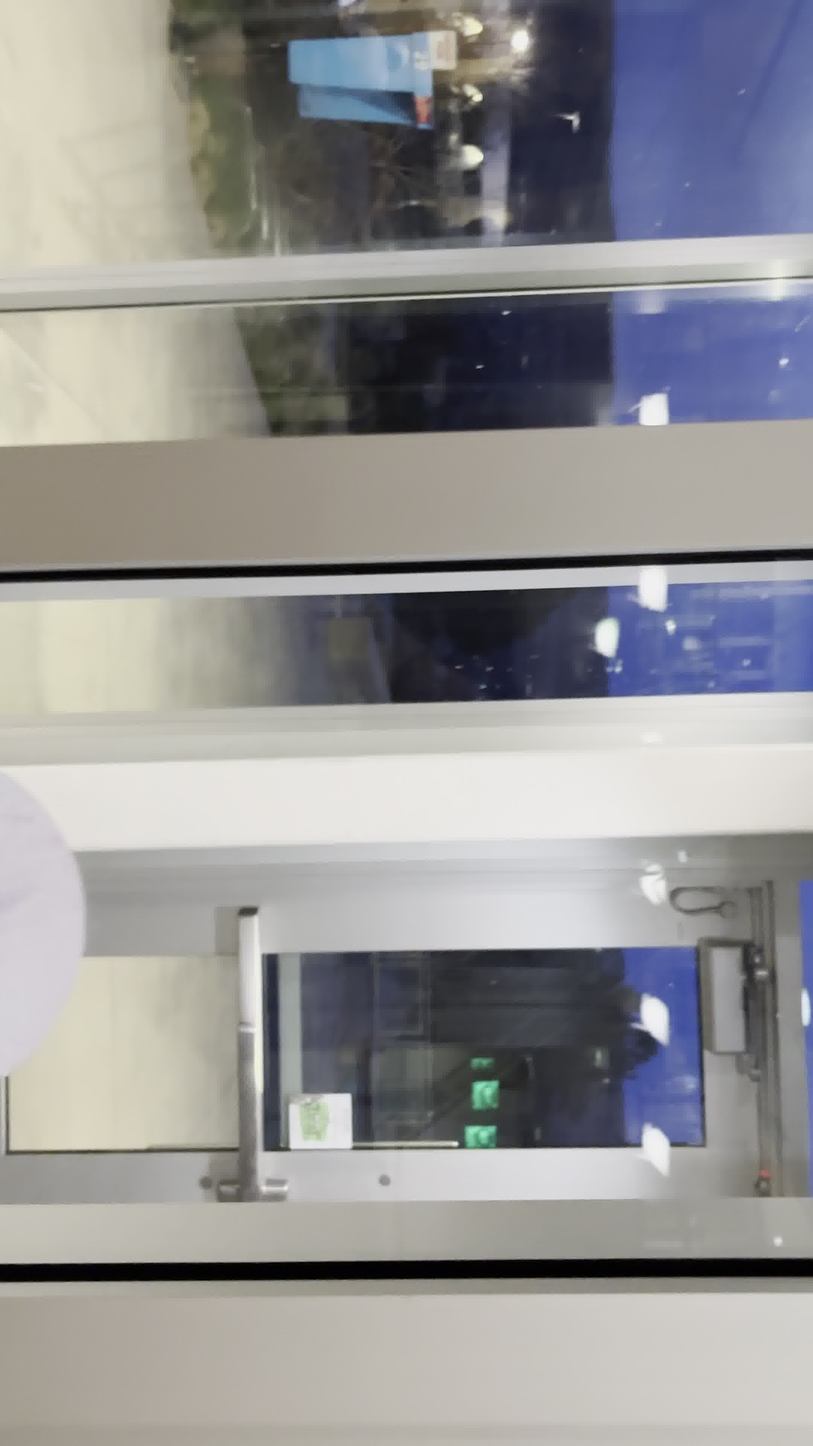Target: (0, 772, 81, 1070)
